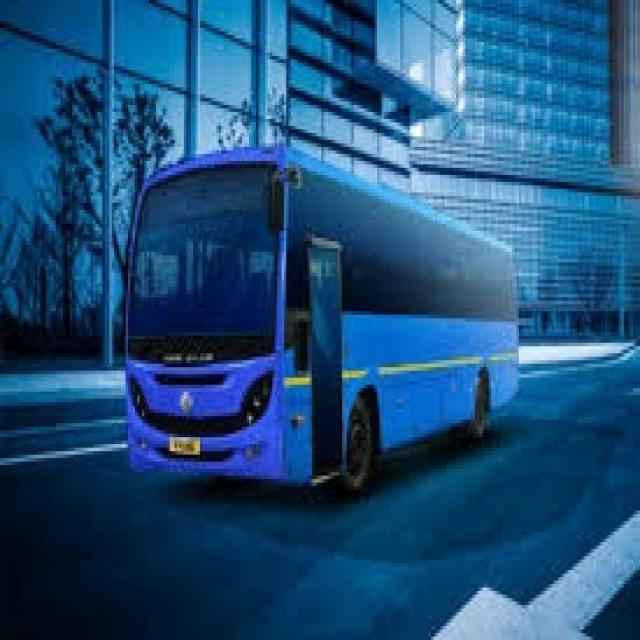bus: (113, 134, 538, 503)
